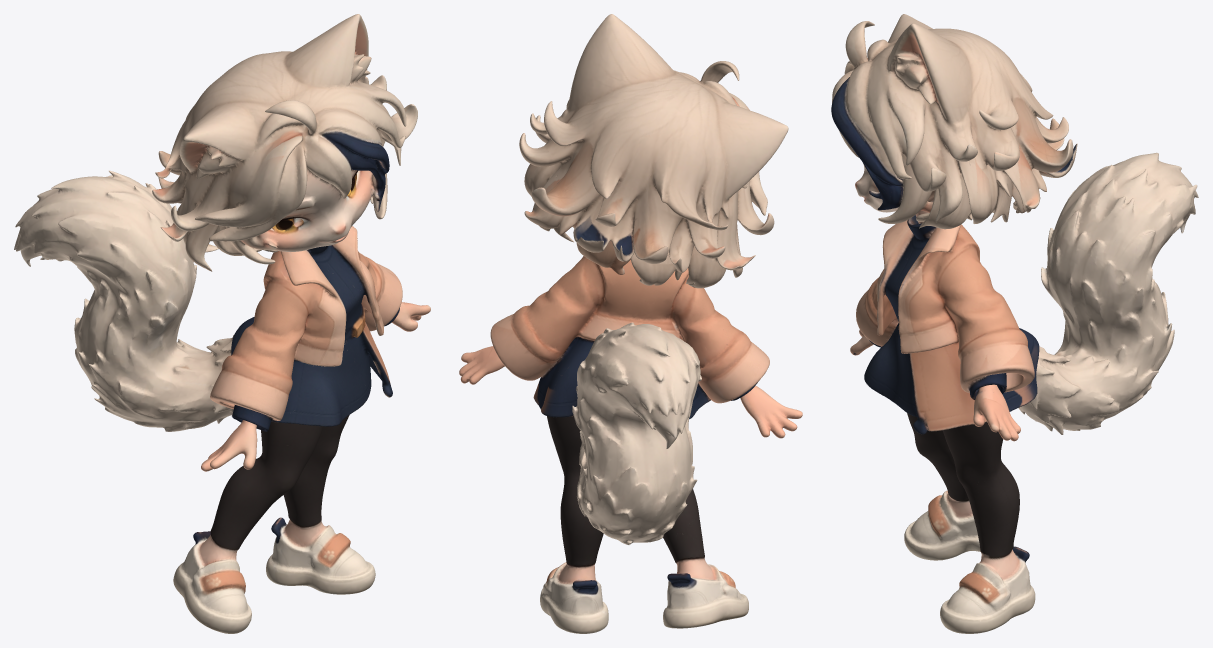
The model's file is Meshy_AI_Whisker_MiniPet_1013191358_texture.glb.
3 views of the same model, side by side, from view 1: azimuth 30°, elevation 25°; view 2: azimuth 150°, elevation 25°; view 3: azimuth 270°, elevation 25° (orthographic). The views are drawn at different scales.
Size of the model in its own units: 1.07 by 1.9 by 1.07.
1 material, 1 textured.
